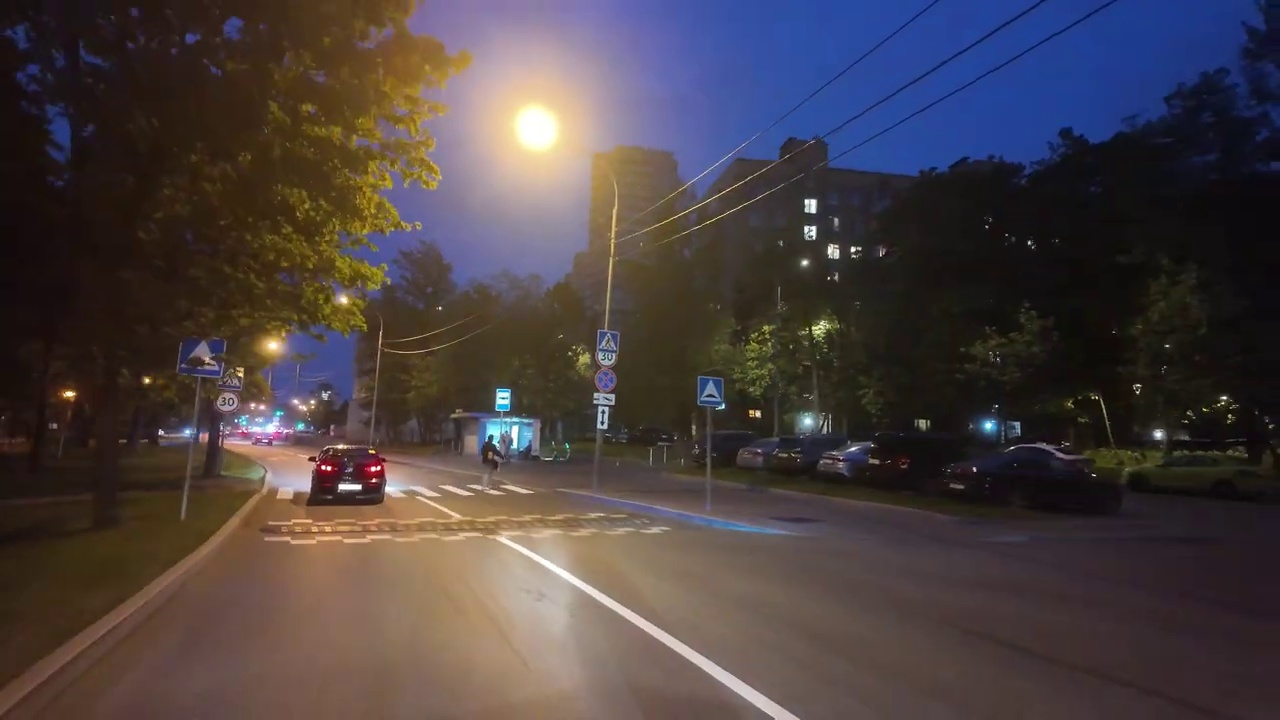acesa: (500, 96, 569, 164), (257, 333, 285, 361)
